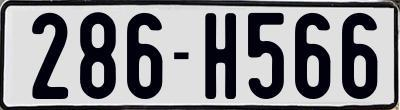2: (31, 12, 73, 103)
5: (248, 13, 289, 104)
6: (339, 12, 375, 102), (125, 13, 161, 102), (295, 10, 330, 99)
8: (79, 10, 118, 102)
H: (203, 12, 240, 101)
